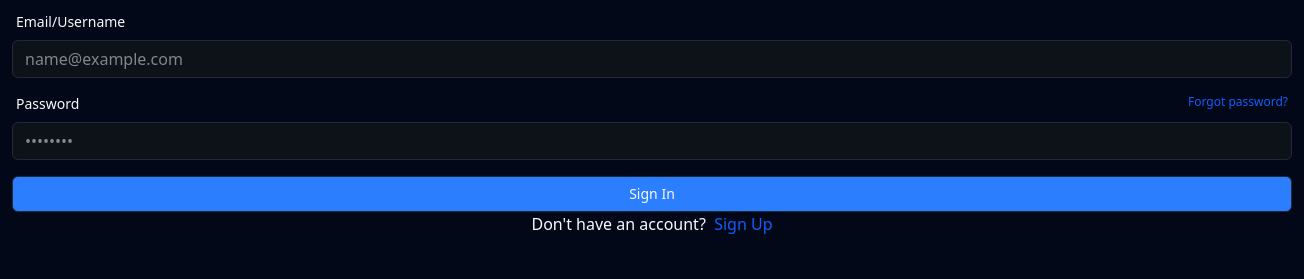
SignInForm › handles Clerk API errors (e.g., wrong password)
Type "test@example.com" into the field labelled "Email/Username" at (652, 59), box [12,40,1292,78]
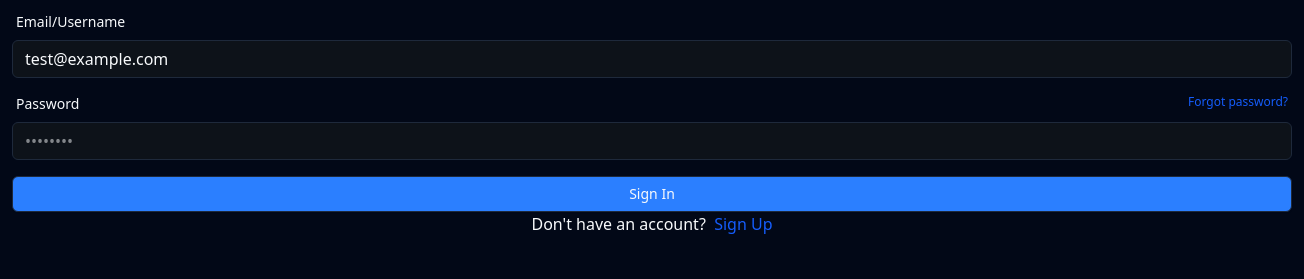
Type "password123" into the password field labelled "Password Forgot password?" at (652, 141), box [12,122,1292,160]
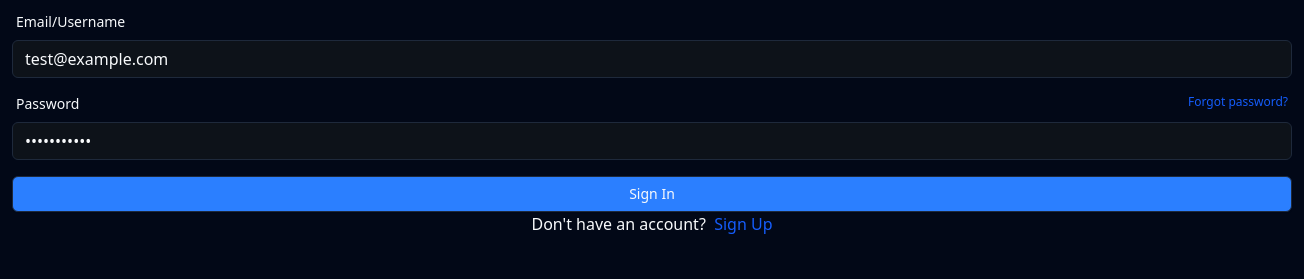
Click the button "Sign In" at (652, 194), box [12,176,1292,212]
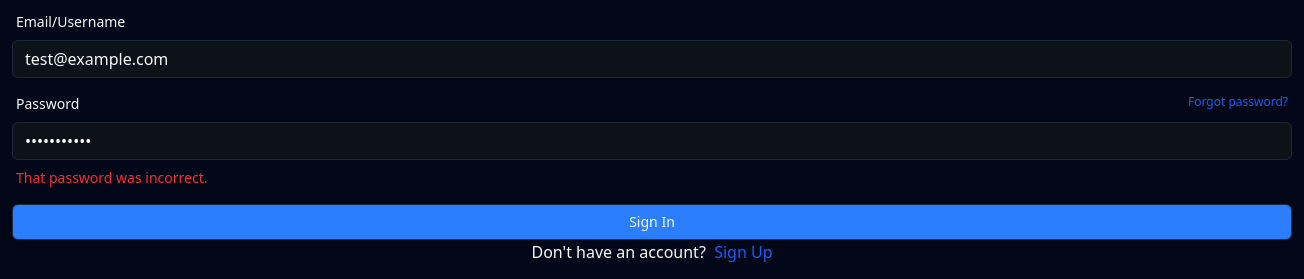
Expected: the button "Sign In" is enabled, [12,204,1292,240]
Expected: the text "That password was incorrect." is shown, [16,168,208,187]
